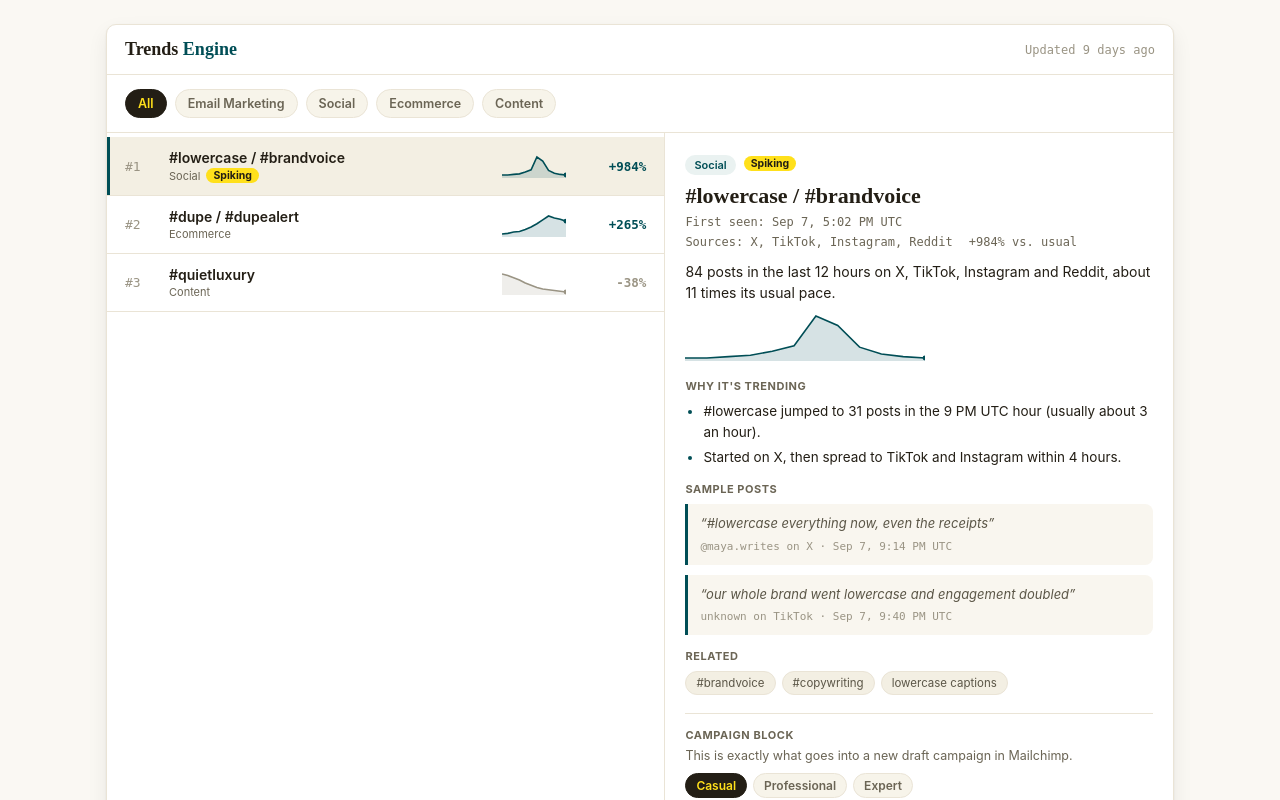
Test: an empty category says which category is quiet
The width and height of the screenshot is (1280, 800).
Click the button "Email Marketing" at point(236, 104), box x1=175 y1=89 x2=298 y2=118
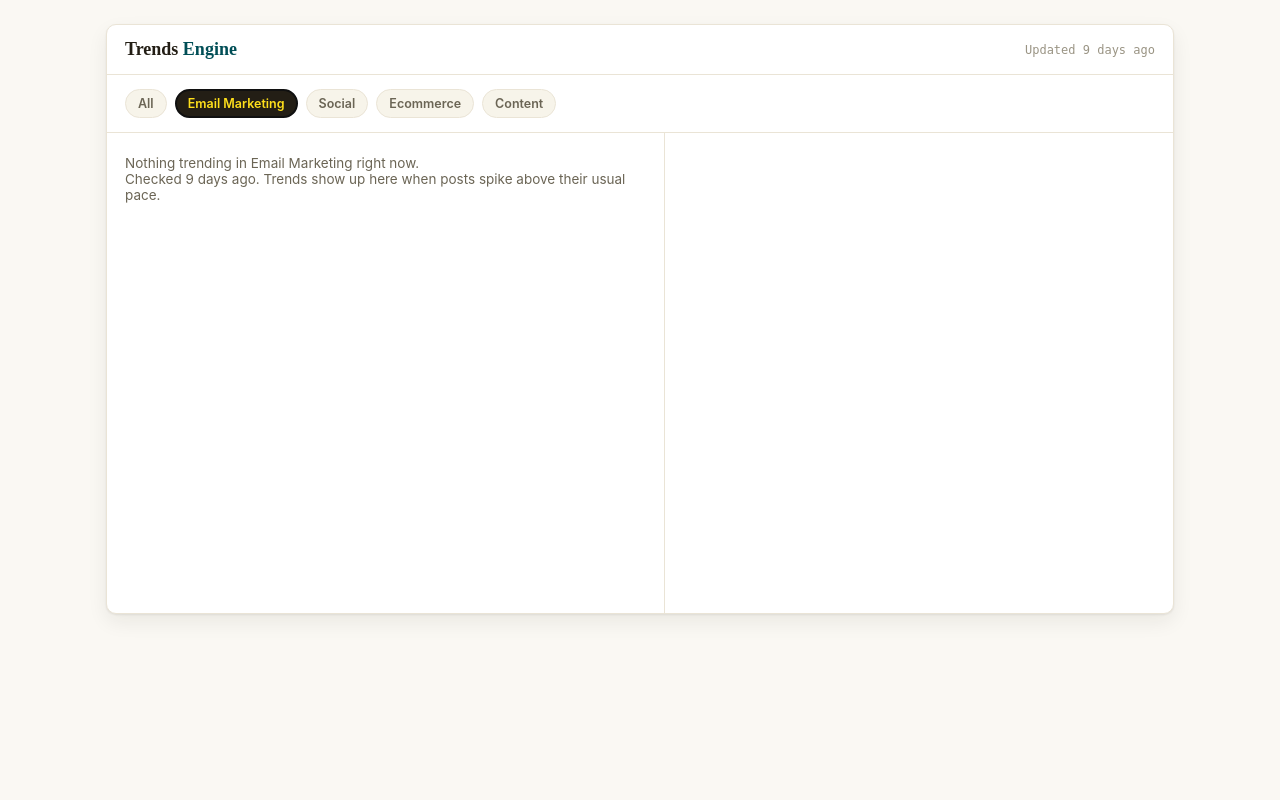
Expected: the text "Nothing trending in Email Marketing right now." is shown, x1=125 y1=155 x2=625 y2=203
